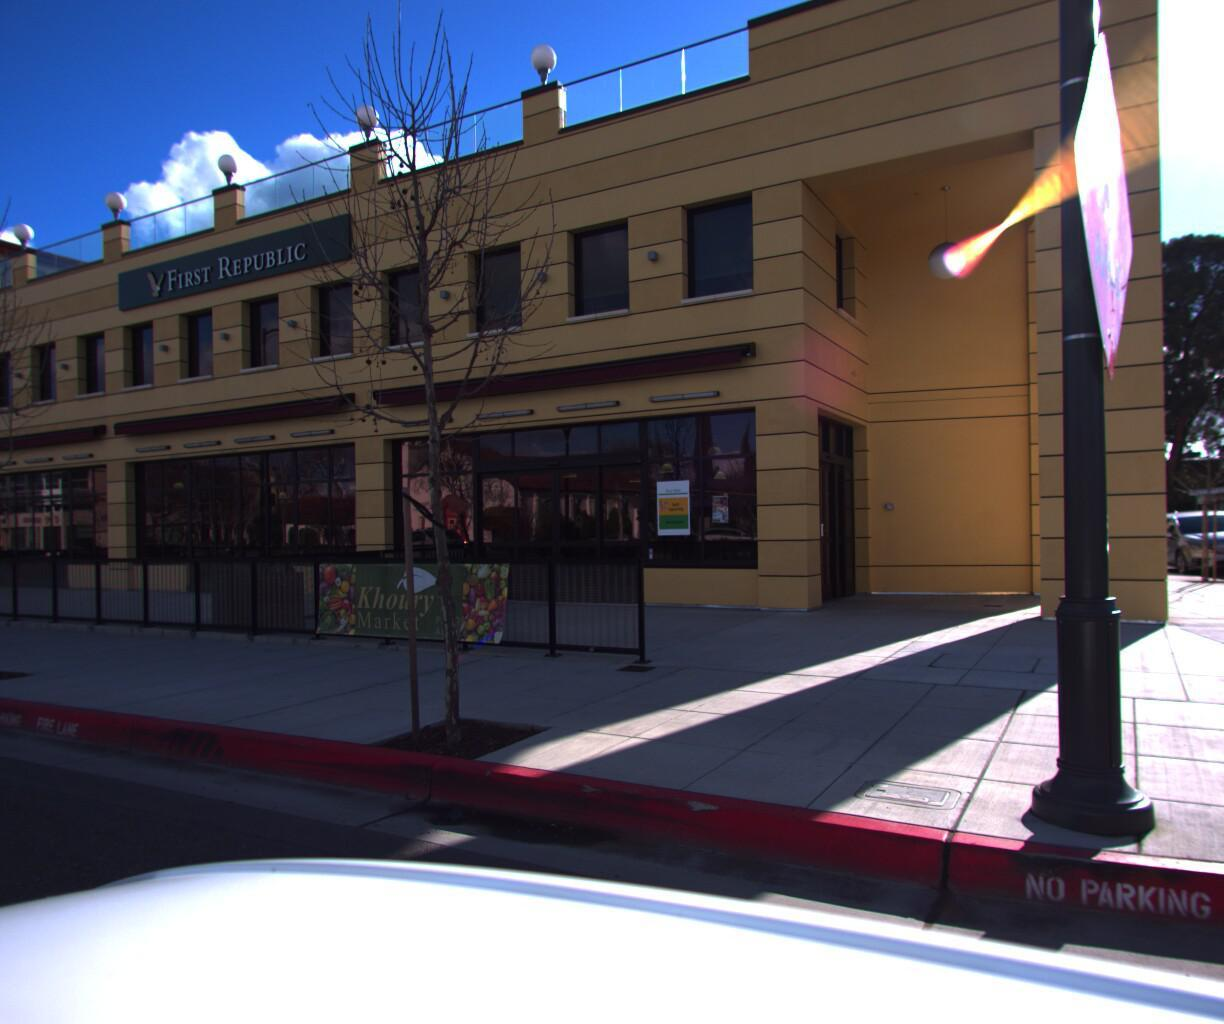car: (1137, 509, 1224, 578)
